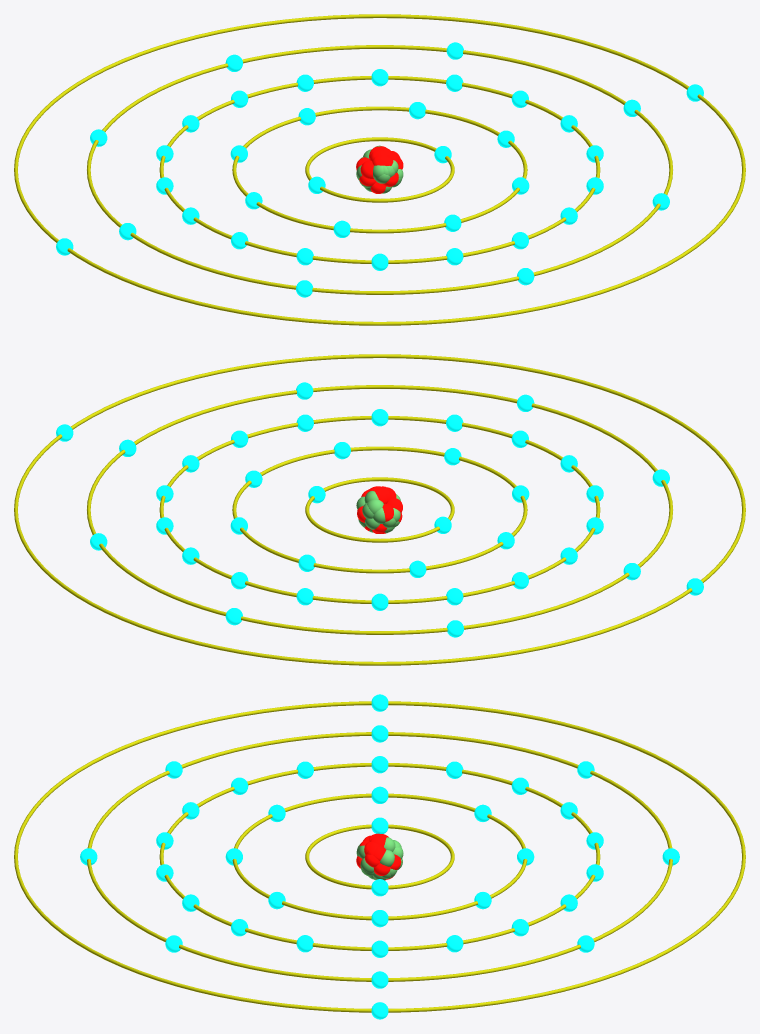
Rendered from atomo_38.glb.
3 views of the same model, one above another, from view 1: azimuth 30°, elevation 25°; view 2: azimuth 150°, elevation 25°; view 3: azimuth 270°, elevation 25° (orthographic).
Parts seen in each view (by area): view 1: orbital_5, orbital_4, orbital_3, orbital_2, orbital_1; view 2: orbital_5, orbital_4, orbital_3, orbital_2, orbital_1; view 3: orbital_5, orbital_4, orbital_3, orbital_2, orbital_1.
Part boxes in pixels (x1=…): orbital_5: x1=14, y1=14, x2=745, y2=325; orbital_4: x1=87, y1=45, x2=672, y2=294; orbital_3: x1=159, y1=76, x2=600, y2=263; orbital_2: x1=232, y1=106, x2=527, y2=233; orbital_1: x1=305, y1=137, x2=454, y2=202; orbital_5: x1=14, y1=354, x2=745, y2=665; orbital_4: x1=87, y1=385, x2=672, y2=634; orbital_3: x1=159, y1=416, x2=600, y2=603; orbital_2: x1=232, y1=446, x2=527, y2=573; orbital_1: x1=305, y1=477, x2=454, y2=542; orbital_5: x1=14, y1=701, x2=745, y2=1012; orbital_4: x1=87, y1=732, x2=672, y2=981; orbital_3: x1=159, y1=763, x2=600, y2=950; orbital_2: x1=232, y1=793, x2=527, y2=920; orbital_1: x1=305, y1=824, x2=454, y2=889.
Bounding box in the file's own units: 15.36 × 0.9973 × 15.08.
